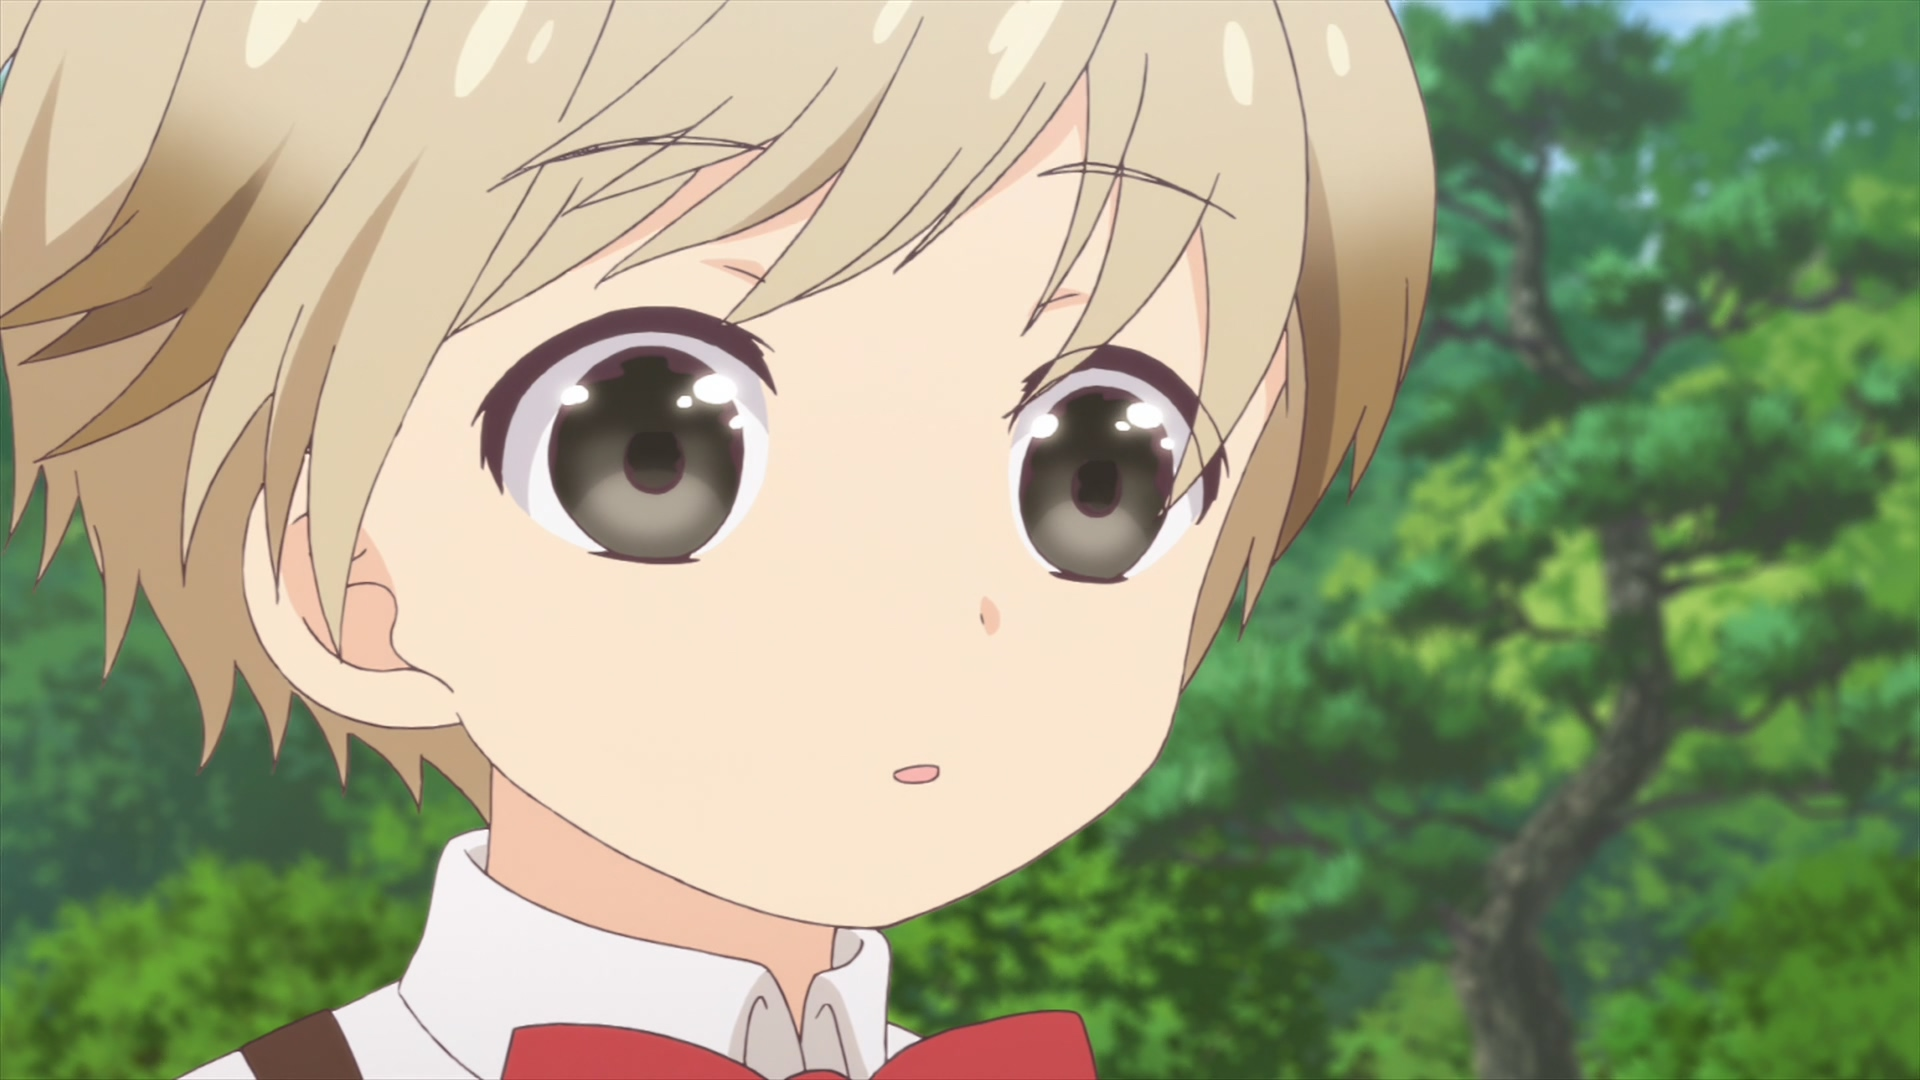其他: (1, 1, 1437, 1080)
